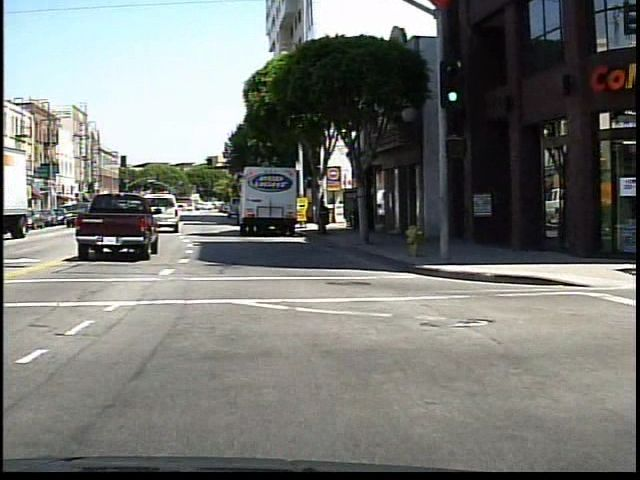car: (72, 193, 161, 260), (237, 160, 298, 235), (143, 194, 182, 229)
